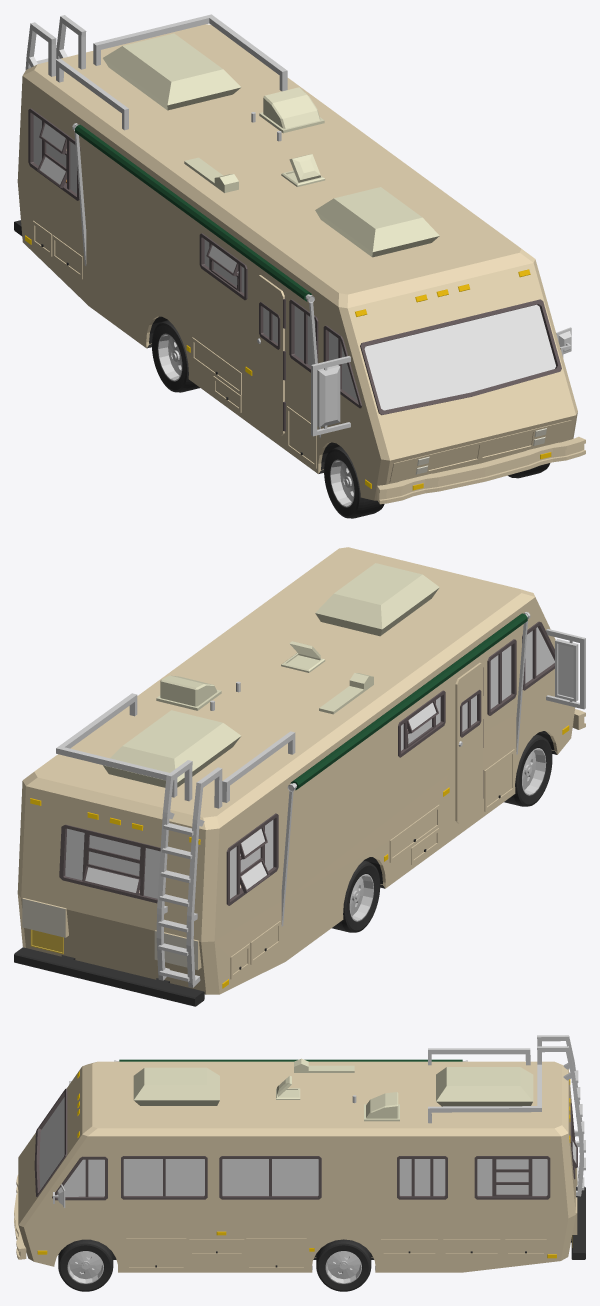
Rendered from Carabana Br Ba.fbx.
3 views of the same model, one above another, from view 1: azimuth 30°, elevation 25°; view 2: azimuth 150°, elevation 25°; view 3: azimuth 270°, elevation 25° (orthographic). The views are drawn at different scales.
Parts seen in each view (by area): view 1: Carroceria.002, ObjetosTecho.001, Vidrios.001, MarcosVentanas.001, Ruedas.001, ParachoquesDelantero.001, Puerta.001, Toldo.001, Retrovisores.001, Escalera.001, PuertasCajones.012, PuertasCajones.013 (+1 smaller); view 2: Carroceria.002, ObjetosTecho.001, Vidrios.001, MarcosVentanas.001, ParachoquesTrasero.001, Escalera.001, Puerta.001, Ruedas.001, Toldo.001, Retrovisores.001, PuertasCajones.012, PuertasCajones.013 (+1 smaller); view 3: Carroceria.002, Vidrios.001, ObjetosTecho.001, MarcosVentanas.001, Ruedas.001, Escalera.001, PuertasCajones.022, PuertasCajones.020, Toldo.001, ParachoquesTrasero.001, PuertasCajones.018, PuertasCajones.019 (+3 smaller).
Part boxes in pixels (x1,y1,x2,y2): Carroceria.002: (17,24,577,500); ObjetosTecho.001: (56,14,439,257); Vidrios.001: (33,115,555,410); MarcosVentanas.001: (28,108,561,415); Ruedas.001: (152,320,550,518); ParachoquesDelantero.001: (377,428,585,504); Puerta.001: (256,275,285,435); Toldo.001: (72,123,320,437); Retrovisores.001: (311,327,571,436); Escalera.001: (25,15,86,76); PuertasCajones.012: (289,411,314,462); PuertasCajones.013: (194,343,239,389); Carroceria.002: (17,547,575,994); ObjetosTecho.001: (56,563,439,802); Vidrios.001: (65,627,554,898); MarcosVentanas.001: (59,621,554,905); ParachoquesTrasero.001: (14,898,204,1006); Escalera.001: (156,760,222,987); Puerta.001: (455,662,483,823); Ruedas.001: (332,734,552,932); Toldo.001: (281,612,530,926); Retrovisores.001: (546,629,585,709); PuertasCajones.012: (487,754,512,806); PuertasCajones.013: (392,810,436,857); Carroceria.002: (18,1061,575,1272); Vidrios.001: (39,1097,576,1196); ObjetosTecho.001: (133,1048,541,1123); MarcosVentanas.001: (34,1088,577,1200); Ruedas.001: (58,1239,371,1291); Escalera.001: (537,1035,585,1196); PuertasCajones.022: (129,1241,183,1267); PuertasCajones.020: (249,1241,303,1267); Toldo.001: (114,1059,467,1061); ParachoquesTrasero.001: (571,1168,585,1259); PuertasCajones.018: (445,1241,497,1253); PuertasCajones.019: (383,1241,435,1253).
Size of the model in its own units: 357 by 340 by 922.
